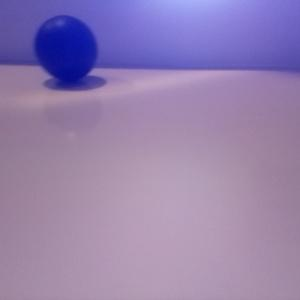dead_ball: (34, 15, 97, 81)
